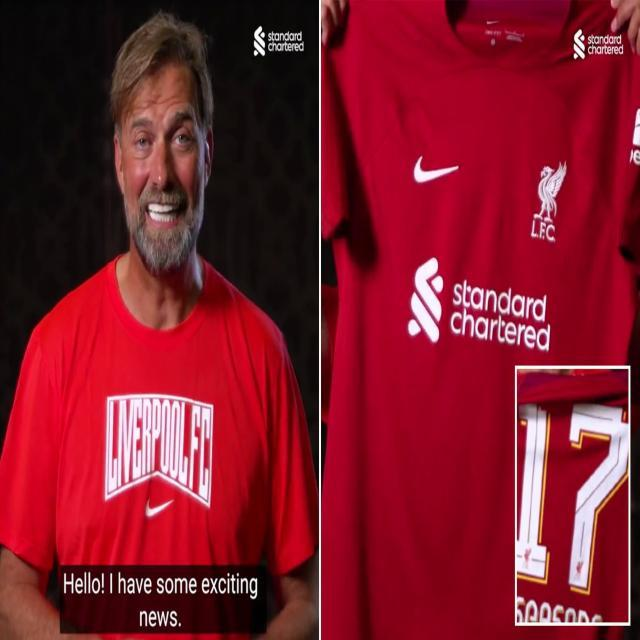Nike: (415, 155, 460, 184), (145, 494, 173, 516)
Standard Chartered: (406, 257, 550, 348)
